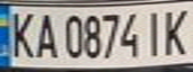0: (60, 10, 84, 60)
4: (118, 9, 145, 60)
7: (100, 10, 121, 60)
8: (81, 11, 103, 60)
A: (30, 9, 60, 60)
I: (142, 7, 169, 57)
K: (3, 8, 39, 60), (160, 4, 193, 56)
